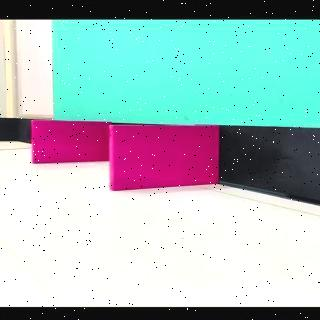xparking: (111, 124, 218, 186), (30, 120, 106, 162)
